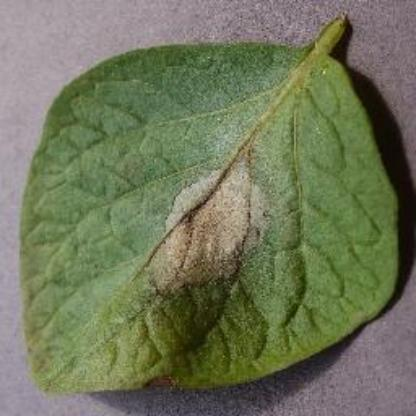Late-Blight: (8, 10, 416, 410)
